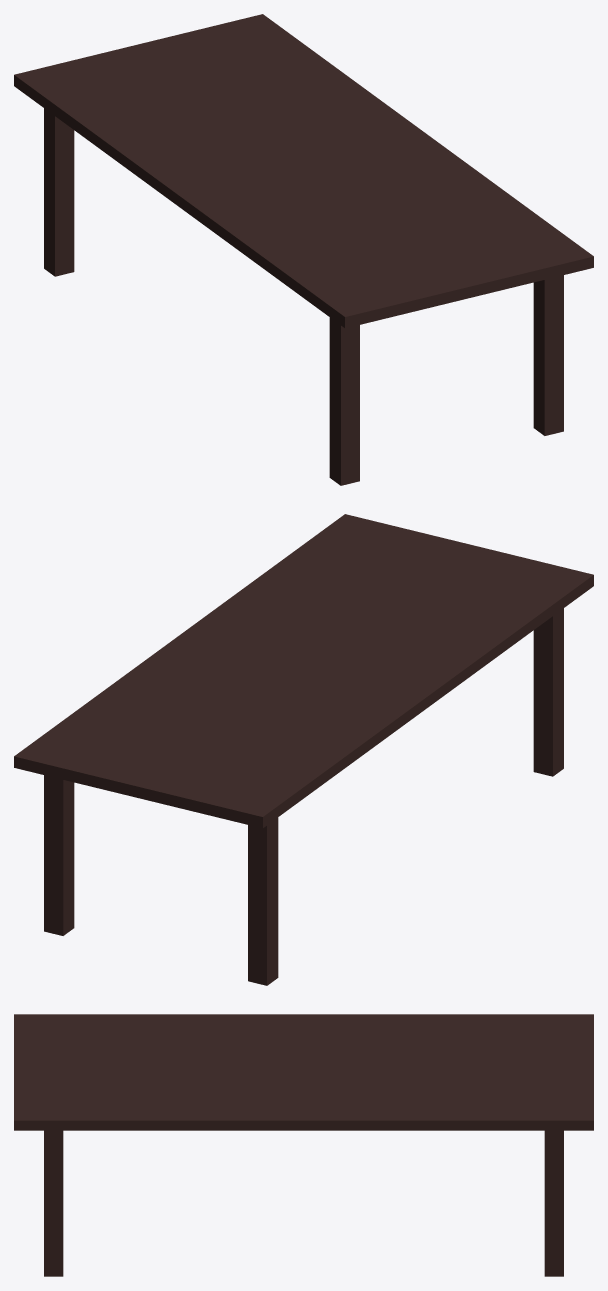
File: GrandeTable_30.fbx
3 views of the same model, one above another, from view 1: azimuth 30°, elevation 25°; view 2: azimuth 150°, elevation 25°; view 3: azimuth 270°, elevation 25° (orthographic). The views are drawn at different scales.
Parts seen in each view (by area): view 1: pCube79, pCube77, pCube75, pCube78; view 2: pCube79, pCube75, pCube77, pCube76; view 3: pCube79, pCube78, pCube76.
Boxes of the visible parts, left/top/right/bottom form: pCube79: left=14, top=14, right=593, bottom=328; pCube77: left=329, top=317, right=359, bottom=485; pCube75: left=44, top=108, right=74, bottom=276; pCube78: left=533, top=275, right=563, bottom=435; pCube79: left=14, top=514, right=593, bottom=828; pCube75: left=248, top=817, right=278, bottom=985; pCube77: left=533, top=608, right=563, bottom=776; pCube76: left=44, top=775, right=74, bottom=935; pCube79: left=14, top=1014, right=593, bottom=1130; pCube78: left=44, top=1130, right=63, bottom=1276; pCube76: left=544, top=1130, right=563, bottom=1276.
Bounding box in the file's own units: 53.95 × 38.21 × 124.
